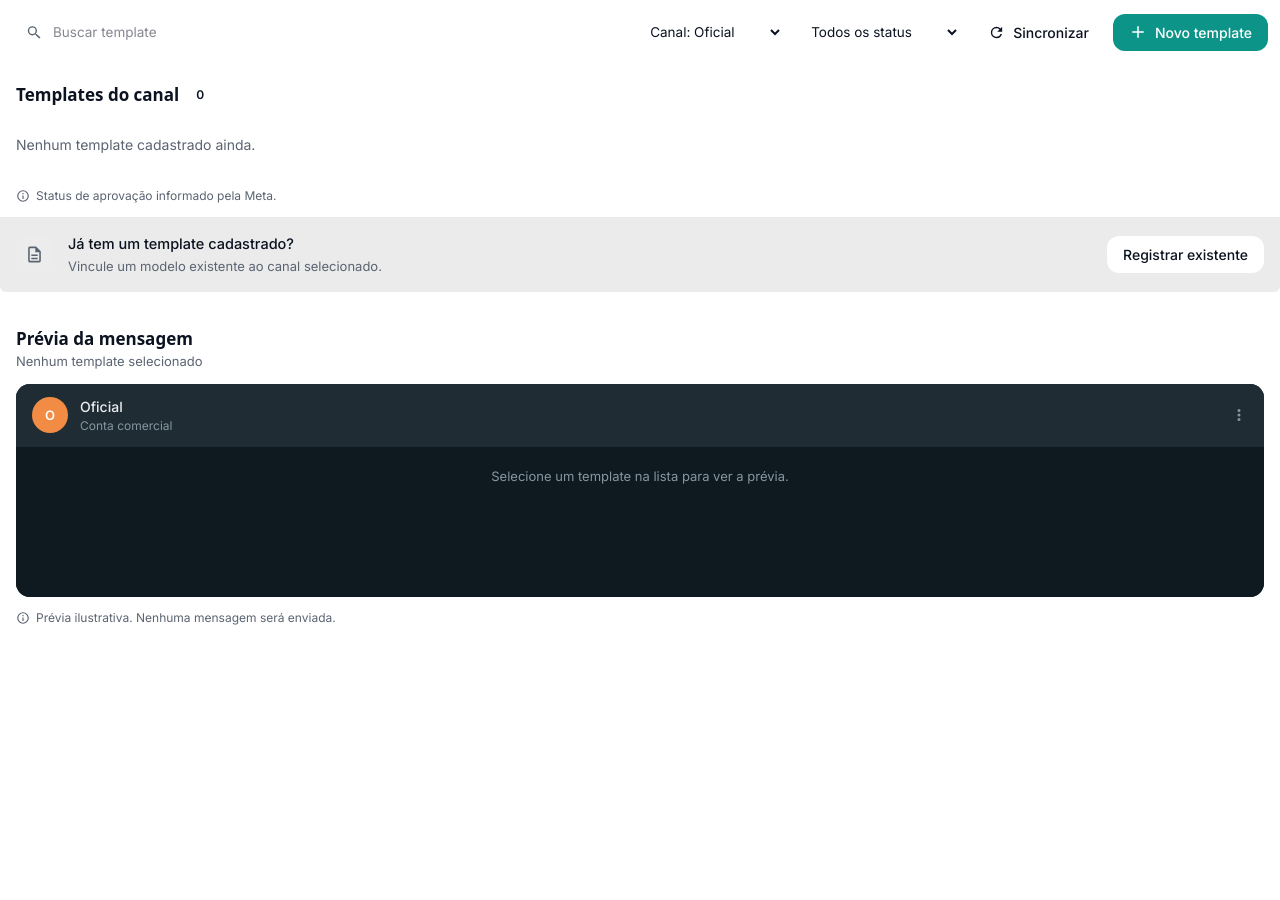
Test case: TemplatesAdminTab › shows the Meta error message when creation fails
Click the button "Novo template" at (1190, 32), box [1113,14,1268,50]
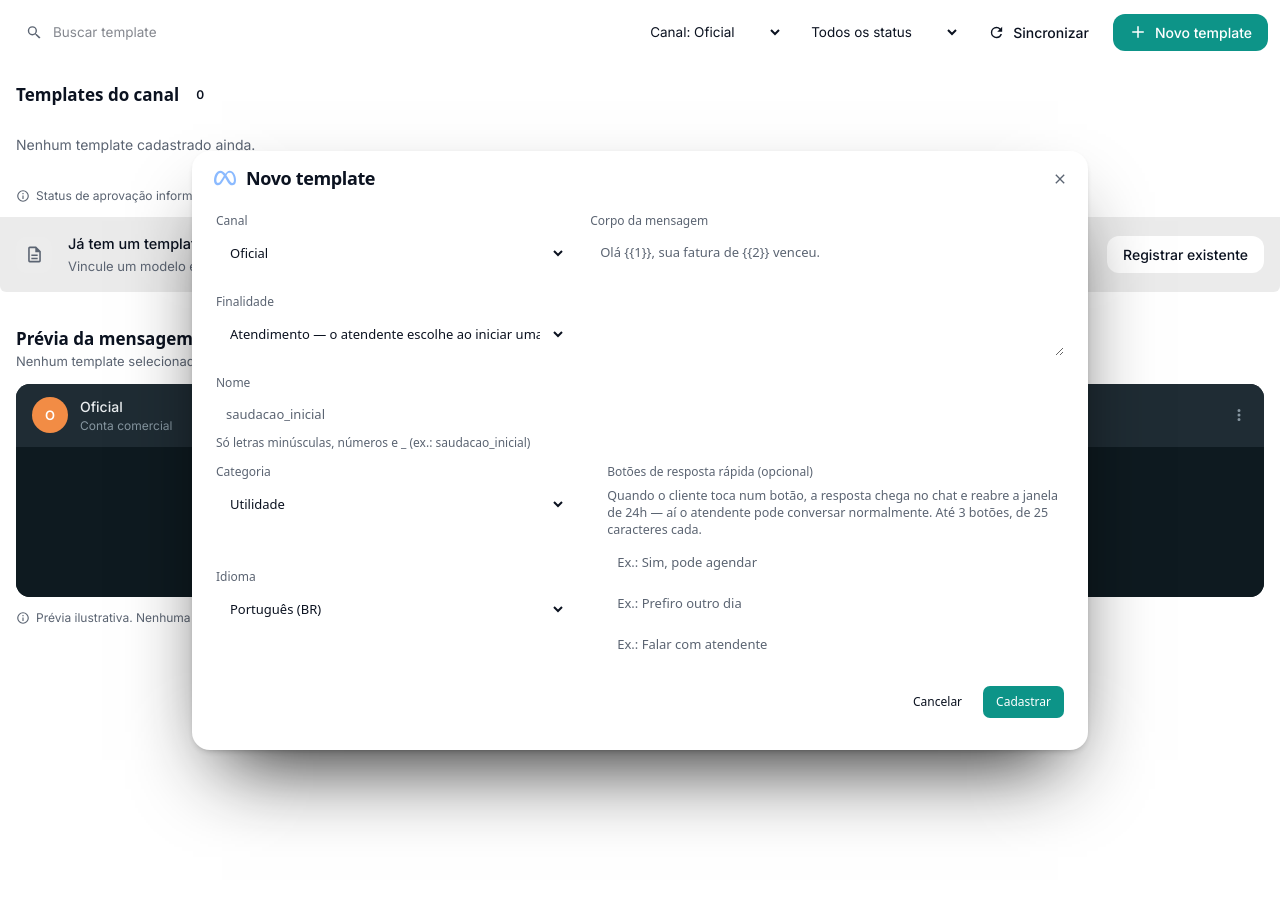
Select "Oficial" in the dropdown labelled "Canal" at (391, 252), box [216,236,566,270]
Type "x" into the field labelled "Nome" at (391, 414), box [216,398,566,430]
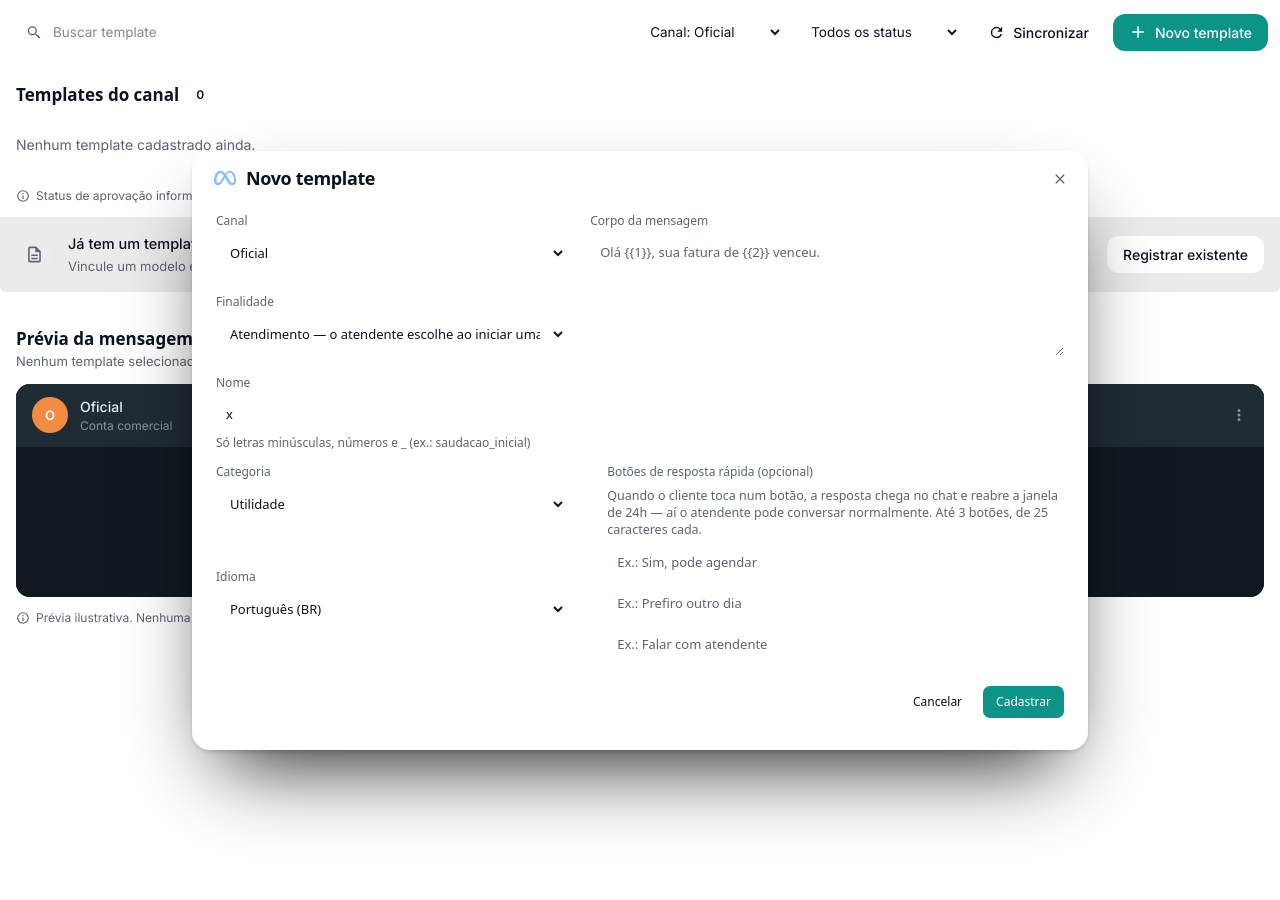
Select "Utilidade" in the dropdown labelled "Categoria" at (391, 504), box [216,486,566,520]
Select "Português (BR)" in the dropdown labelled "Idioma" at (391, 608), box [216,592,566,626]
Type "Y" into the text box labelled "Corpo da mensagem" at (827, 296), box [590,236,1064,356]
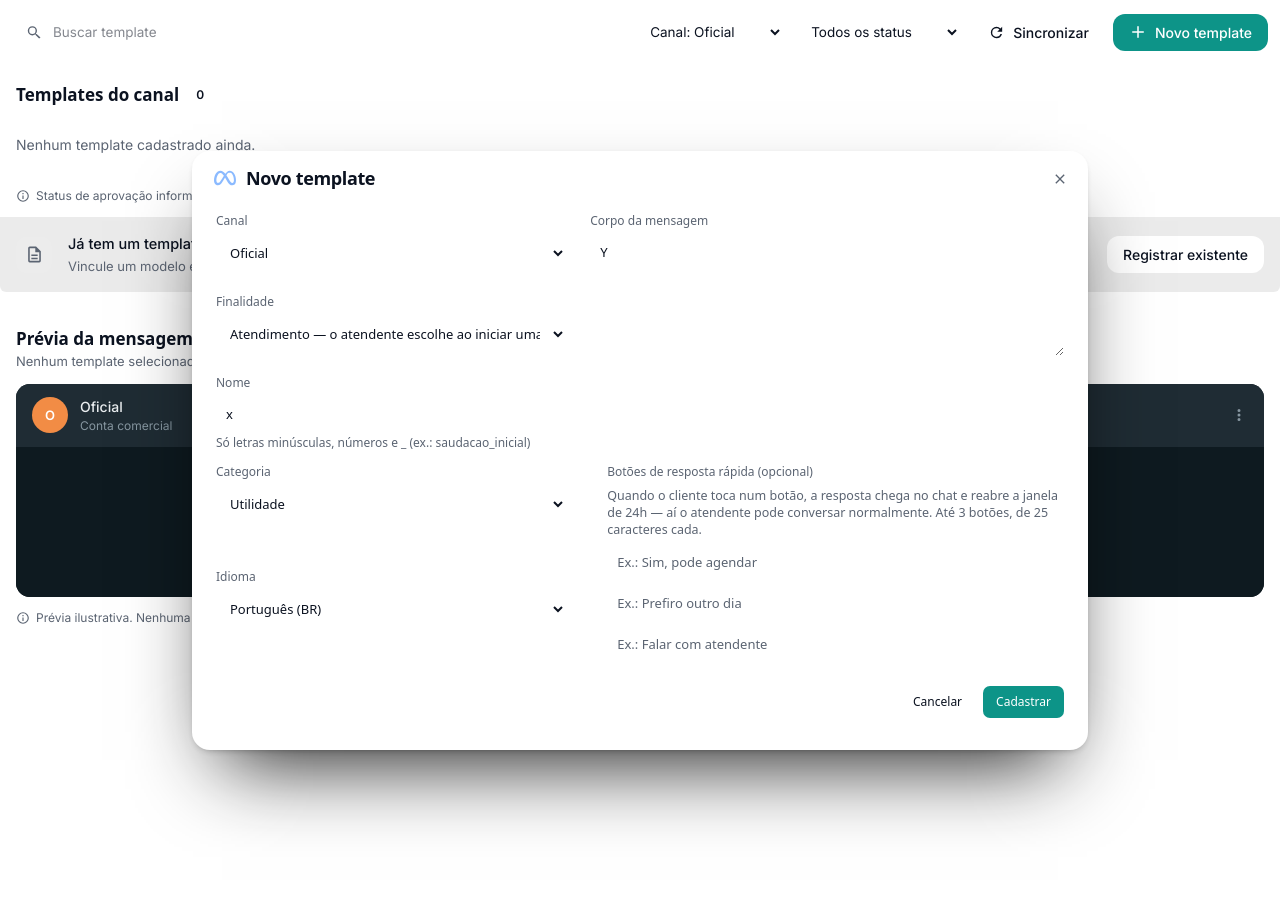
Click the button "Cadastrar" at (1024, 702), box [983,686,1064,718]
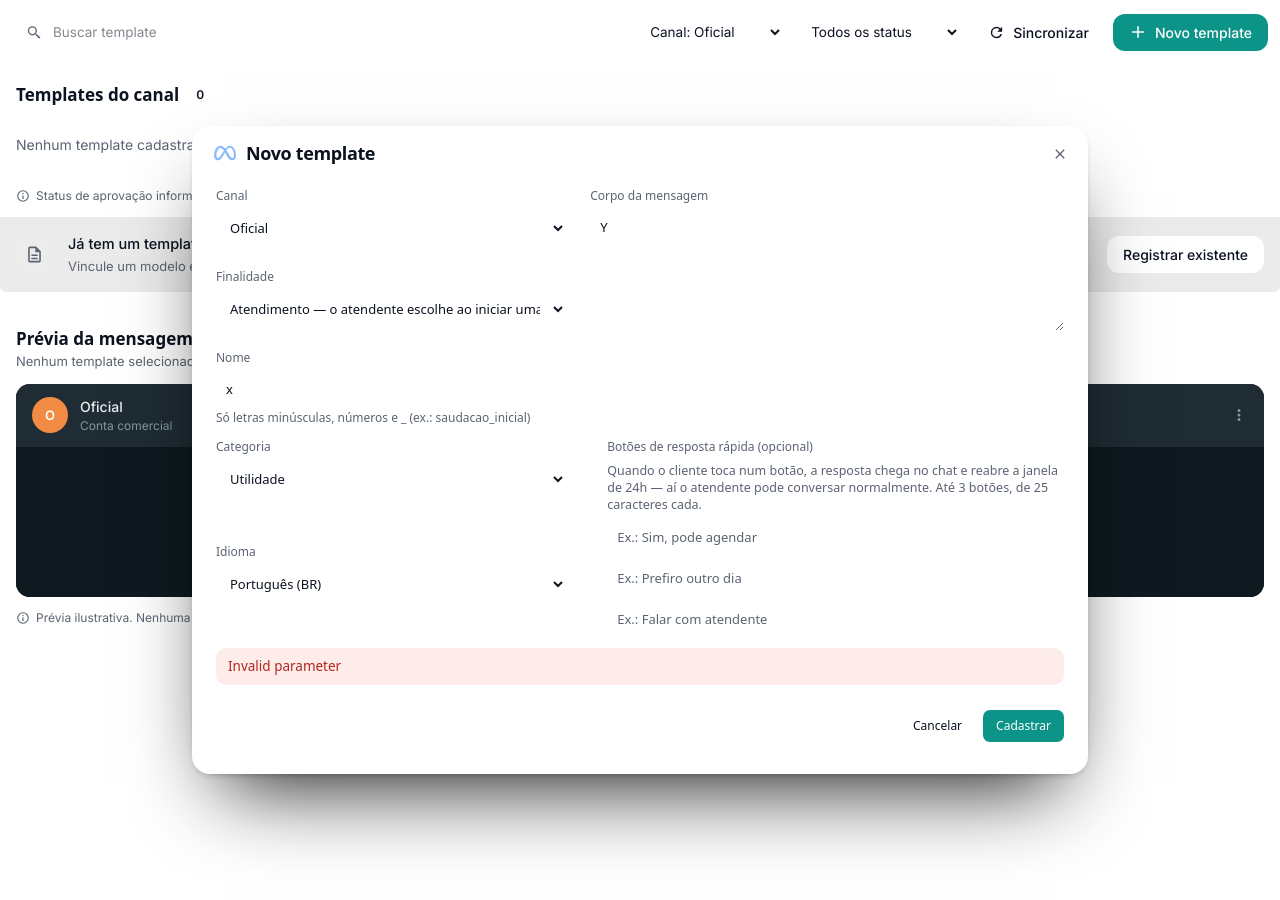
Check: the text "Invalid parameter" is shown, box [216,648,1064,685]
